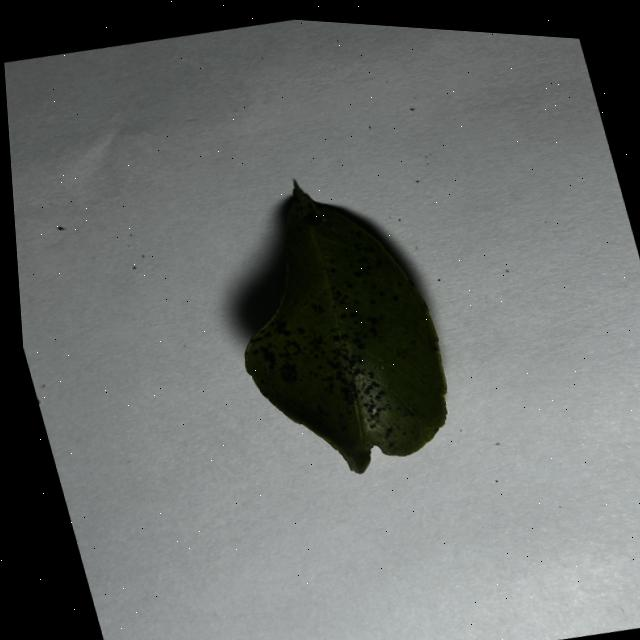sooty_mold: (243, 182, 445, 472)
